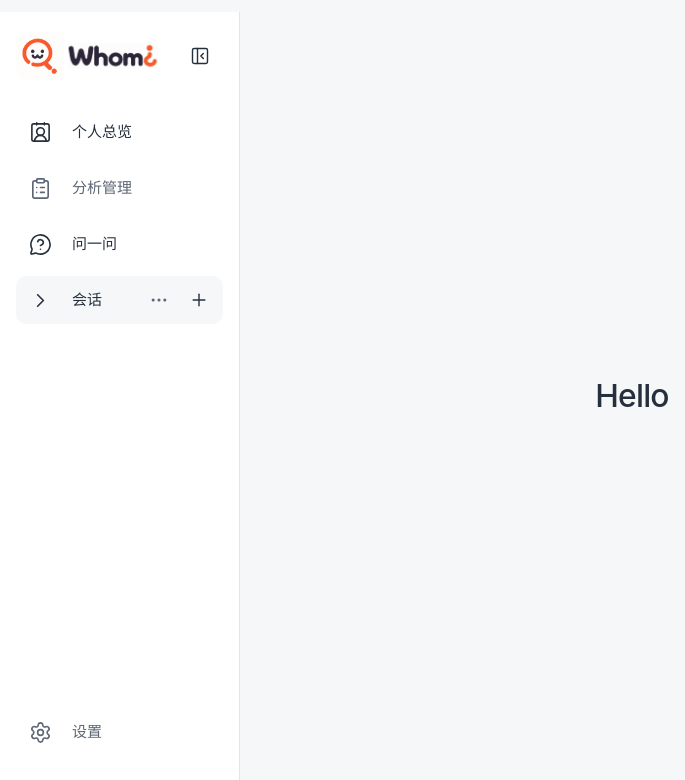
Test: Whomi 首页 › 收起后 Logo 悬停提示展开，点击展开后恢复首页链接并转移焦点
Click the button named "收起侧栏" at (200, 56), box [176,32,224,80]
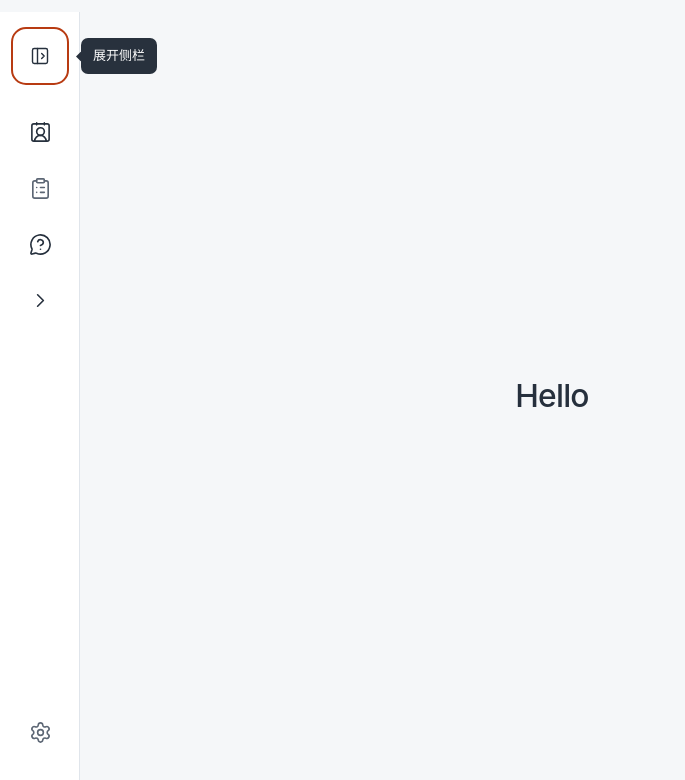
Hover over the button named "展开侧栏" at (40, 56), box [16,32,64,80]
Expected: the tooltip reads "展开侧栏", [93,47,145,63]
Click the button named "展开侧栏" at (40, 56), box [16,32,64,80]
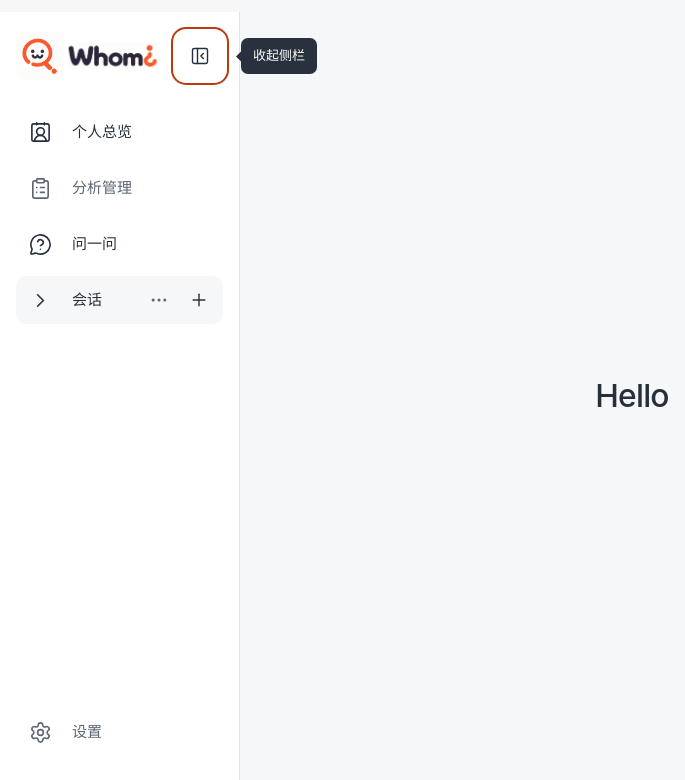
Expected: the link named "Whomi 首页" is shown, [16,32,172,80]
